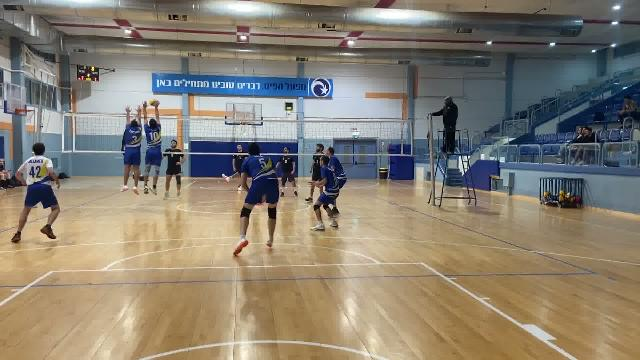ball: (149, 97, 158, 109)
